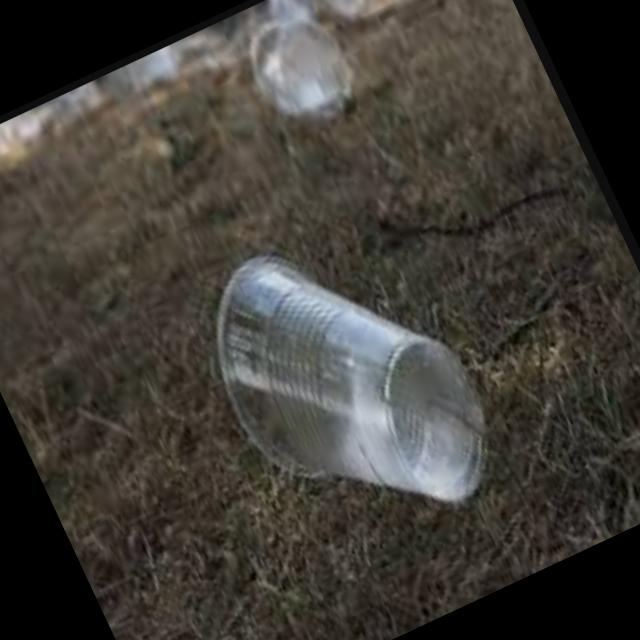GelasPlastik: (176, 192, 518, 574)
